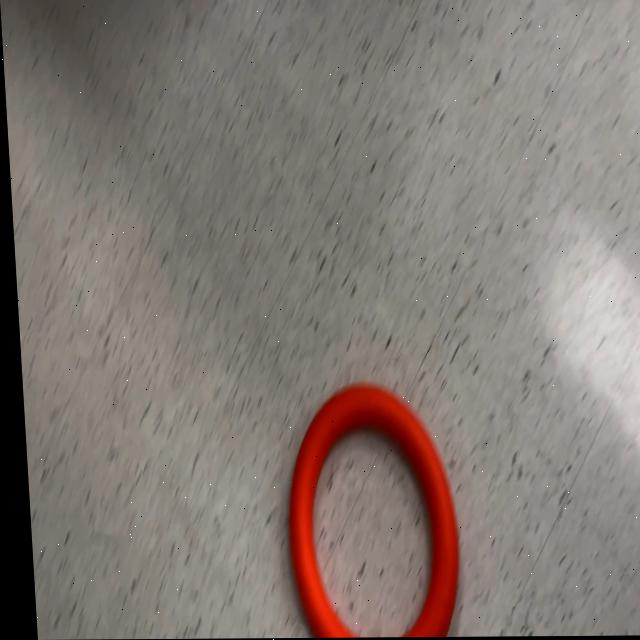note: (277, 384, 456, 638)
